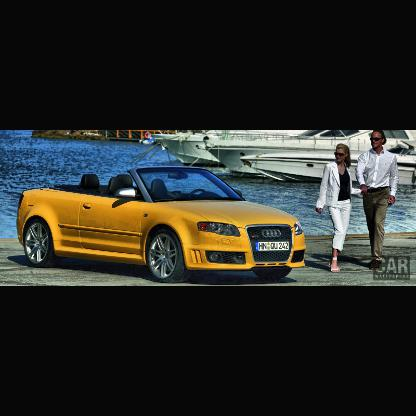Audi RS 4 Convertible 2008: (16, 148, 308, 285)
